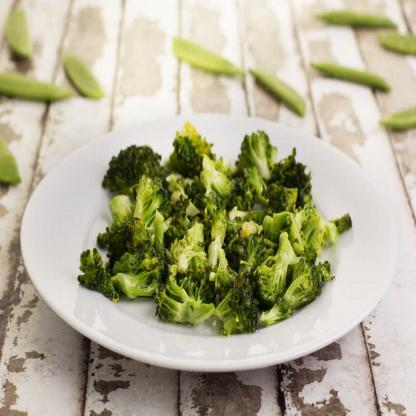broccoli: (80, 122, 354, 336)
